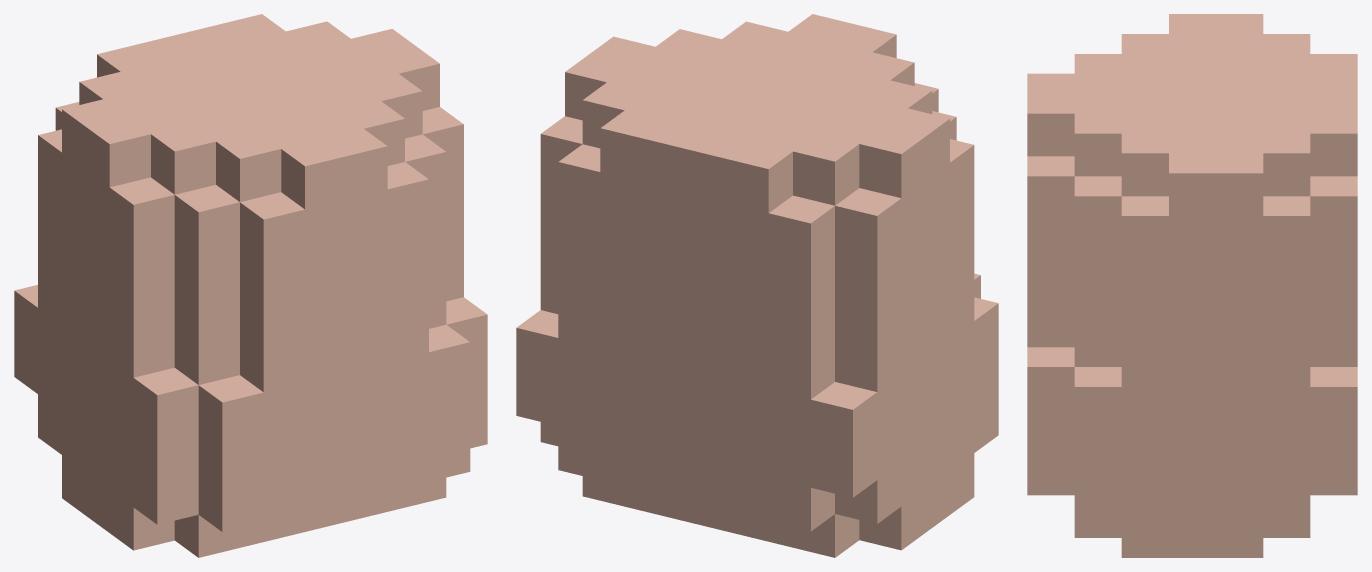
The model's file is Body1.fbx.
The picture shows the model from 3 angles, left to right: view 1: azimuth 30°, elevation 25°; view 2: azimuth 150°, elevation 25°; view 3: azimuth 270°, elevation 25°; orthographic projection. The views are drawn at different scales.
Visible parts, largest first — view 1: Body1; view 2: Body1; view 3: Body1.
Boxes of the visible parts, x1,y1,x2,y2 form: Body1: [14, 14, 487, 557]; Body1: [516, 14, 998, 557]; Body1: [1027, 14, 1357, 557].
Size of the model in its own units: 80 by 90 by 70.
